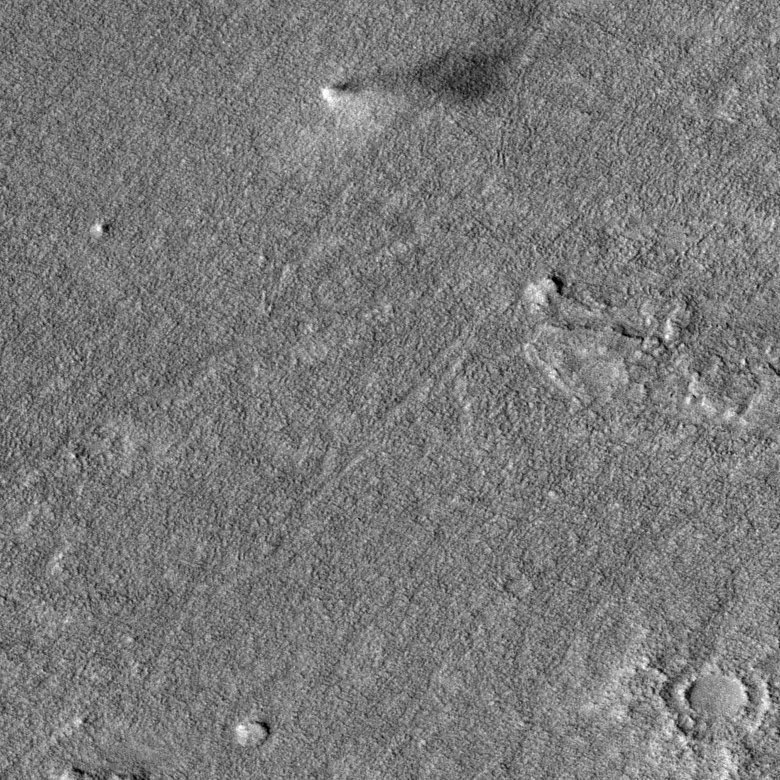dust_devil: (316, 39, 525, 113)
